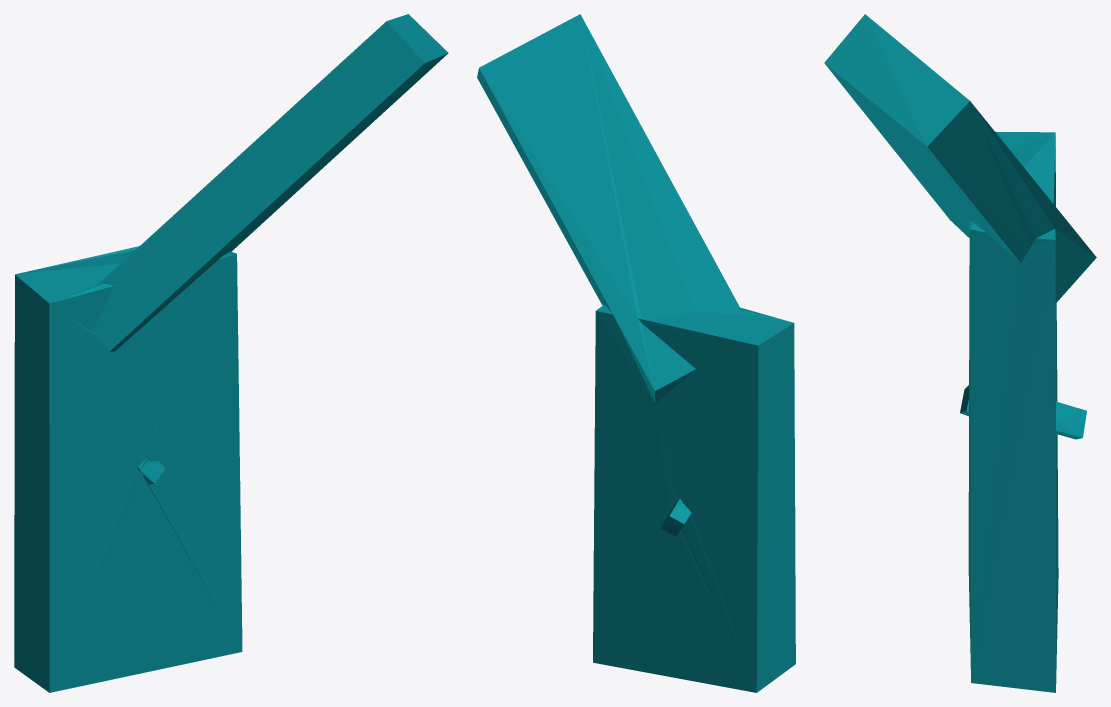
The picture shows the model from 3 angles, left to right: view 1: azimuth 30°, elevation 25°; view 2: azimuth 150°, elevation 25°; view 3: azimuth 270°, elevation 25°; orthographic projection. The views are drawn at different scales.
Visible parts, largest first — view 1: 085_Cube.350; view 2: 085_Cube.350; view 3: 085_Cube.350.
Boxes of the visible parts, box(x1,y1,x2,y2) form: 085_Cube.350: box(14, 14, 448, 692); 085_Cube.350: box(477, 14, 795, 692); 085_Cube.350: box(824, 14, 1096, 692).
Bounding box in the file's own units: 12.19 × 19.93 × 6.72.
